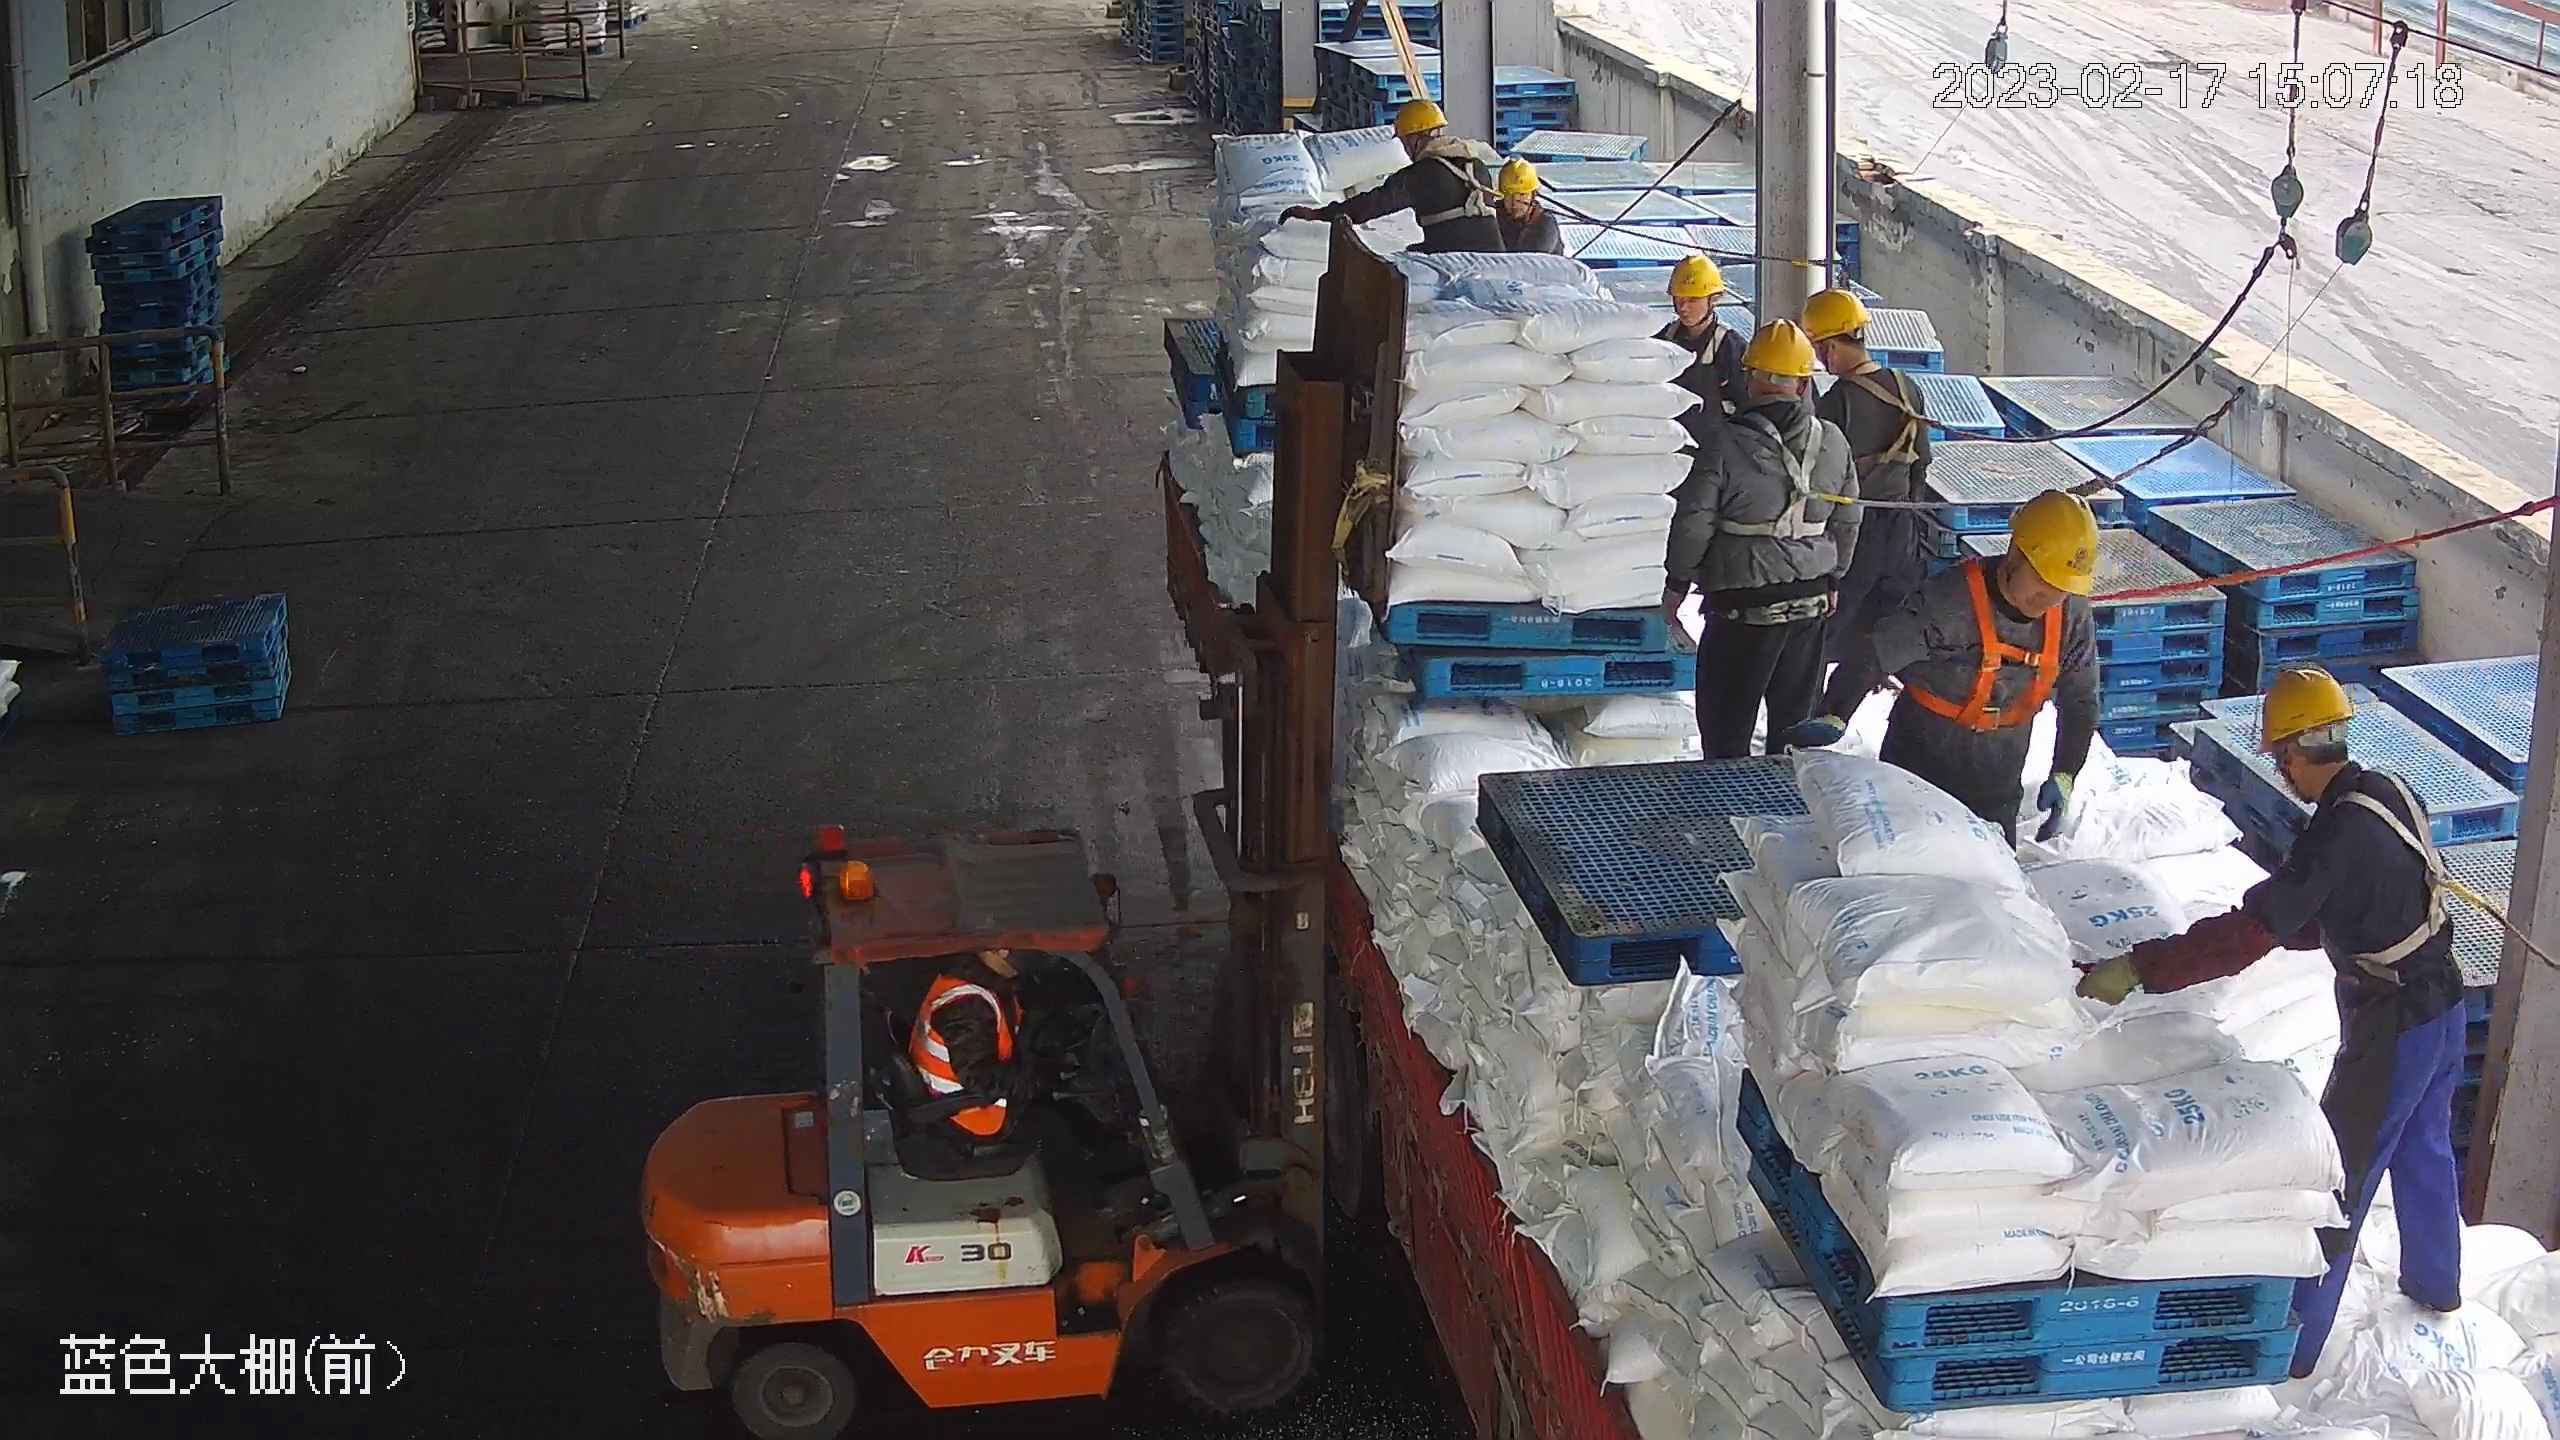belt: (2329, 764, 2489, 982), (1909, 559, 2089, 732), (1717, 421, 1856, 546), (1841, 366, 1963, 484), (1661, 313, 1744, 365)
head: (2248, 665, 2439, 865), (1938, 489, 2102, 634), (1710, 321, 1853, 485), (1802, 291, 1924, 422), (1372, 100, 1493, 212), (1658, 255, 1746, 359), (1492, 160, 1567, 253)
helmet: (2014, 487, 2099, 599), (2259, 666, 2356, 750), (1744, 316, 1817, 381), (1801, 289, 1871, 341), (1667, 257, 1728, 298), (1393, 100, 1451, 140), (1500, 155, 1543, 196)
people: (2069, 662, 2467, 1374), (1782, 488, 2104, 861), (1662, 314, 1858, 760), (891, 950, 1154, 1239), (1797, 287, 1932, 729)
truck: (1142, 400, 2560, 1440)
